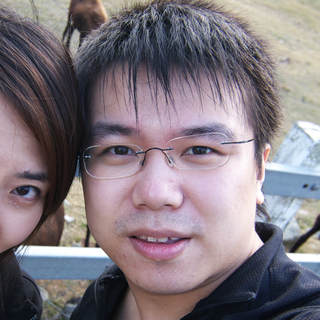eye: (7, 180, 45, 205), (95, 141, 142, 161), (178, 141, 223, 161)
